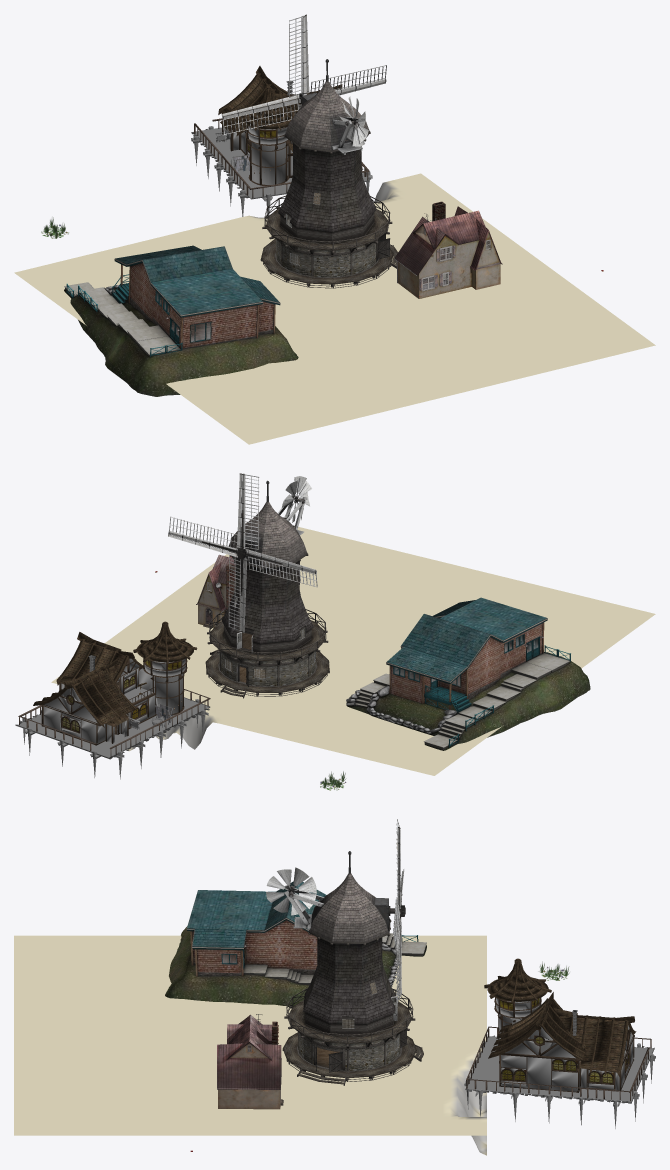
3 renders of one model, top to bottom at view 1: azimuth 30°, elevation 25°; view 2: azimuth 150°, elevation 25°; view 3: azimuth 270°, elevation 25°, orthographic. The views are drawn at different scales.
Visible parts, largest first — view 1: Terrain 7,1, prim0-mesh_0 (×6), prim0-mesh (×5), Marchand Meubles, dust bunny hill top cottage 1 (×4), large sail, small sail; view 2: Terrain 7,1, prim0-mesh_0 (×10), prim0-mesh (×6), Marchand Meubles, large sail, dust bunny hill top cottage 1, small sail, Dust bunny hill top cottage 1; view 3: Terrain 7,1, prim0-mesh (×3), Marchand Meubles, prim0-mesh_0 (×6), dust bunny hill top cottage 1 (×3), small sail.
Boxes of the visible parts, x1,y1,x2,y2 form: Terrain 7,1: (14, 173, 655, 444); prim0-mesh_0 (×6): (64, 245, 298, 396); prim0-mesh (×5): (221, 14, 397, 288); Marchand Meubles: (191, 66, 372, 216); dust bunny hill top cottage 1 (×4): (395, 206, 502, 298); large sail: (310, 65, 386, 95); small sail: (339, 96, 368, 146); Terrain 7,1: (51, 526, 655, 775); prim0-mesh_0 (×10): (346, 597, 590, 750); prim0-mesh (×6): (205, 473, 329, 698); Marchand Meubles: (15, 621, 210, 779); large sail: (168, 516, 237, 557); dust bunny hill top cottage 1: (198, 575, 226, 627); small sail: (281, 476, 311, 522); Dust bunny hill top cottage 1: (198, 563, 235, 624); Terrain 7,1: (14, 935, 486, 1155); prim0-mesh (×3): (282, 851, 423, 1085); Marchand Meubles: (464, 958, 655, 1128); prim0-mesh_0 (×6): (165, 881, 426, 1006); dust bunny hill top cottage 1 (×3): (217, 1014, 281, 1109); small sail: (266, 867, 316, 915).
Size of what is drawn, in the model's own units: 72.92 by 42.4 by 86.86.
Materials: 199 (198 with a texture image).
